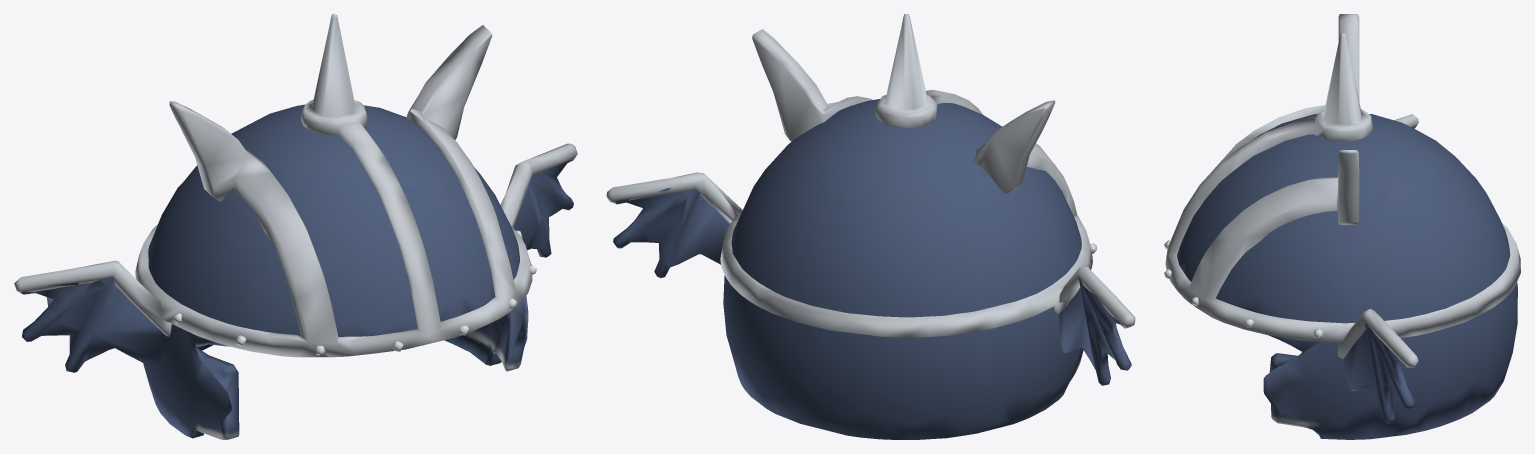
The model's file is dragoon-helm.glb.
3 views of the same model, side by side, from view 1: azimuth 30°, elevation 25°; view 2: azimuth 150°, elevation 25°; view 3: azimuth 270°, elevation 25° (orthographic). The views are drawn at different scales.
Visible parts, largest first — view 1: helm; view 2: helm; view 3: helm.
Boxes of the visible parts, x1,y1,x2,y2 form: helm: (14,14,577,439); helm: (606,14,1135,439); helm: (1164,14,1520,439).
Size of the model in its own units: 0.8138 by 0.5241 by 0.5002.
Materials: 1 (1 with a texture image).
